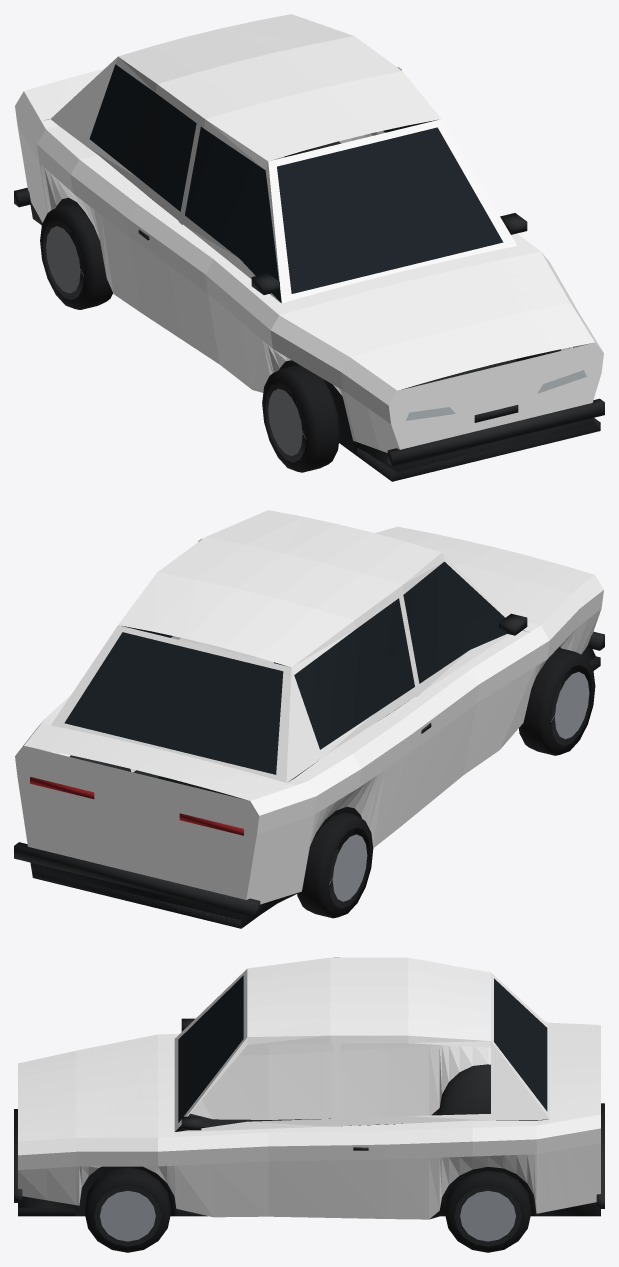
File: vallon_cajuina.glb
3 views of the same model, one above another, from view 1: azimuth 30°, elevation 25°; view 2: azimuth 150°, elevation 25°; view 3: azimuth 270°, elevation 25° (orthographic). The views are drawn at different scales.
Visible parts, largest first — view 1: Body_Paint, Body_Details, Mount_FrontLeft_Wheel_Details, Mount_RearLeft_Wheel_Details; view 2: Body_Paint, Body_Details, Mount_FrontLeft_Wheel_Details, Mount_RearLeft_Wheel_Details; view 3: Body_Paint, Body_Details, Mount_FrontRight_Wheel_Details, Mount_RearRight_Wheel_Details.
Boxes of the visible parts, <box> form: Body_Paint: <box>15,14,603,452</box>; Body_Details: <box>14,64,604,481</box>; Mount_FrontLeft_Wheel_Details: <box>262,364,339,472</box>; Mount_RearLeft_Wheel_Details: <box>40,203,112,309</box>; Body_Paint: <box>15,510,603,904</box>; Body_Details: <box>14,561,604,928</box>; Mount_FrontLeft_Wheel_Details: <box>519,647,595,755</box>; Mount_RearLeft_Wheel_Details: <box>297,812,373,918</box>; Body_Paint: <box>18,957,600,1219</box>; Body_Details: <box>14,975,604,1219</box>; Mount_FrontRight_Wheel_Details: <box>84,1167,170,1252</box>; Mount_RearRight_Wheel_Details: <box>445,1171,531,1252</box>.
Bounding box in the file's own units: 1.8 × 1.49 × 3.9.
2 materials, 1 textured.
